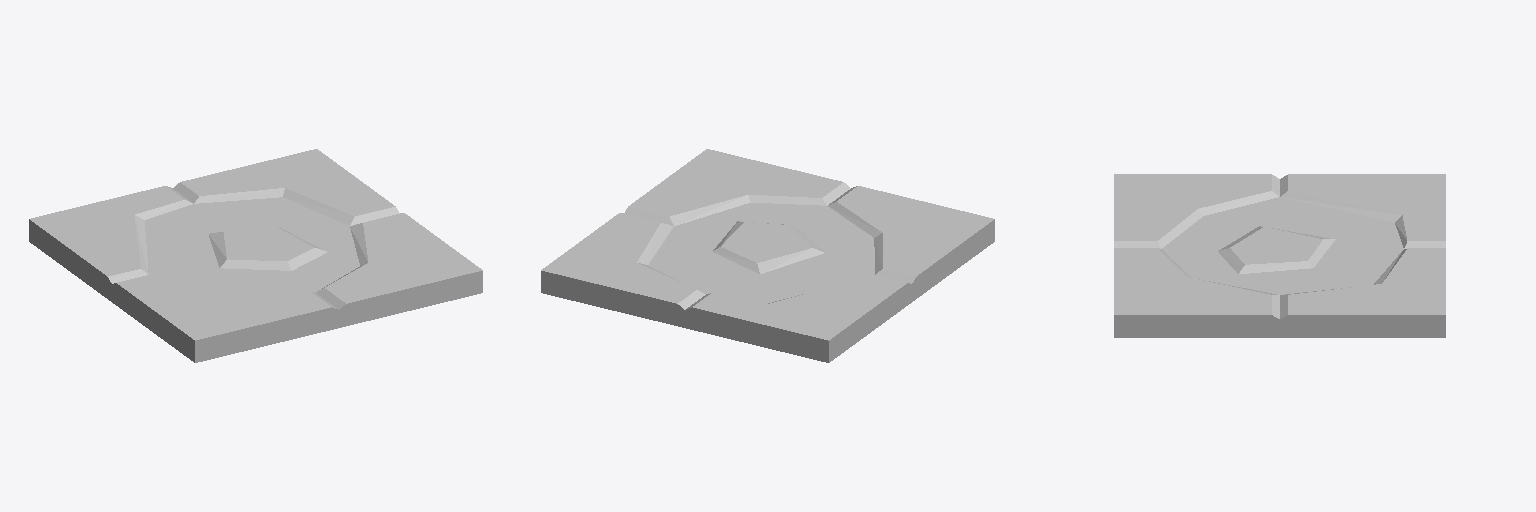
File: floor_tile_small_broken_A.obj
3 views of the same model, side by side, from view 1: azimuth 30°, elevation 25°; view 2: azimuth 150°, elevation 25°; view 3: azimuth 270°, elevation 25° (orthographic).
Parts seen in each view (by area): view 1: floor_tile_small_broken_A; view 2: floor_tile_small_broken_A; view 3: floor_tile_small_broken_A.
Part boxes in pixels (bbox=[...]): floor_tile_small_broken_A: bbox=[29, 149, 482, 362]; floor_tile_small_broken_A: bbox=[541, 149, 994, 362]; floor_tile_small_broken_A: bbox=[1114, 174, 1445, 337].
Size of the model in its own units: 2 by 0.15 by 2.